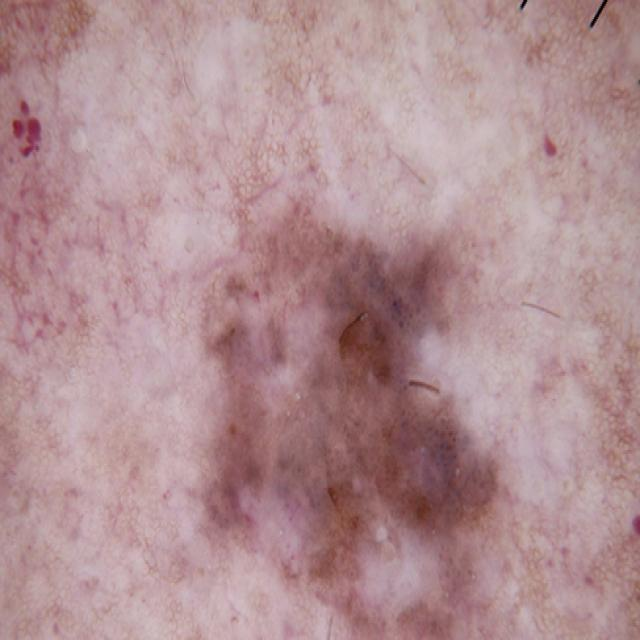Keratosis: (159, 171, 524, 640)
